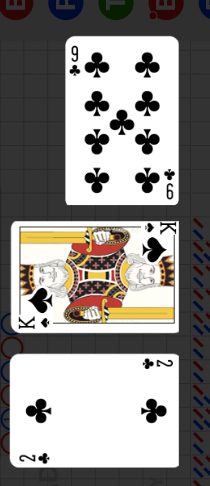2C: (140, 357, 175, 372)
9C: (162, 166, 177, 201), (68, 44, 83, 79)
